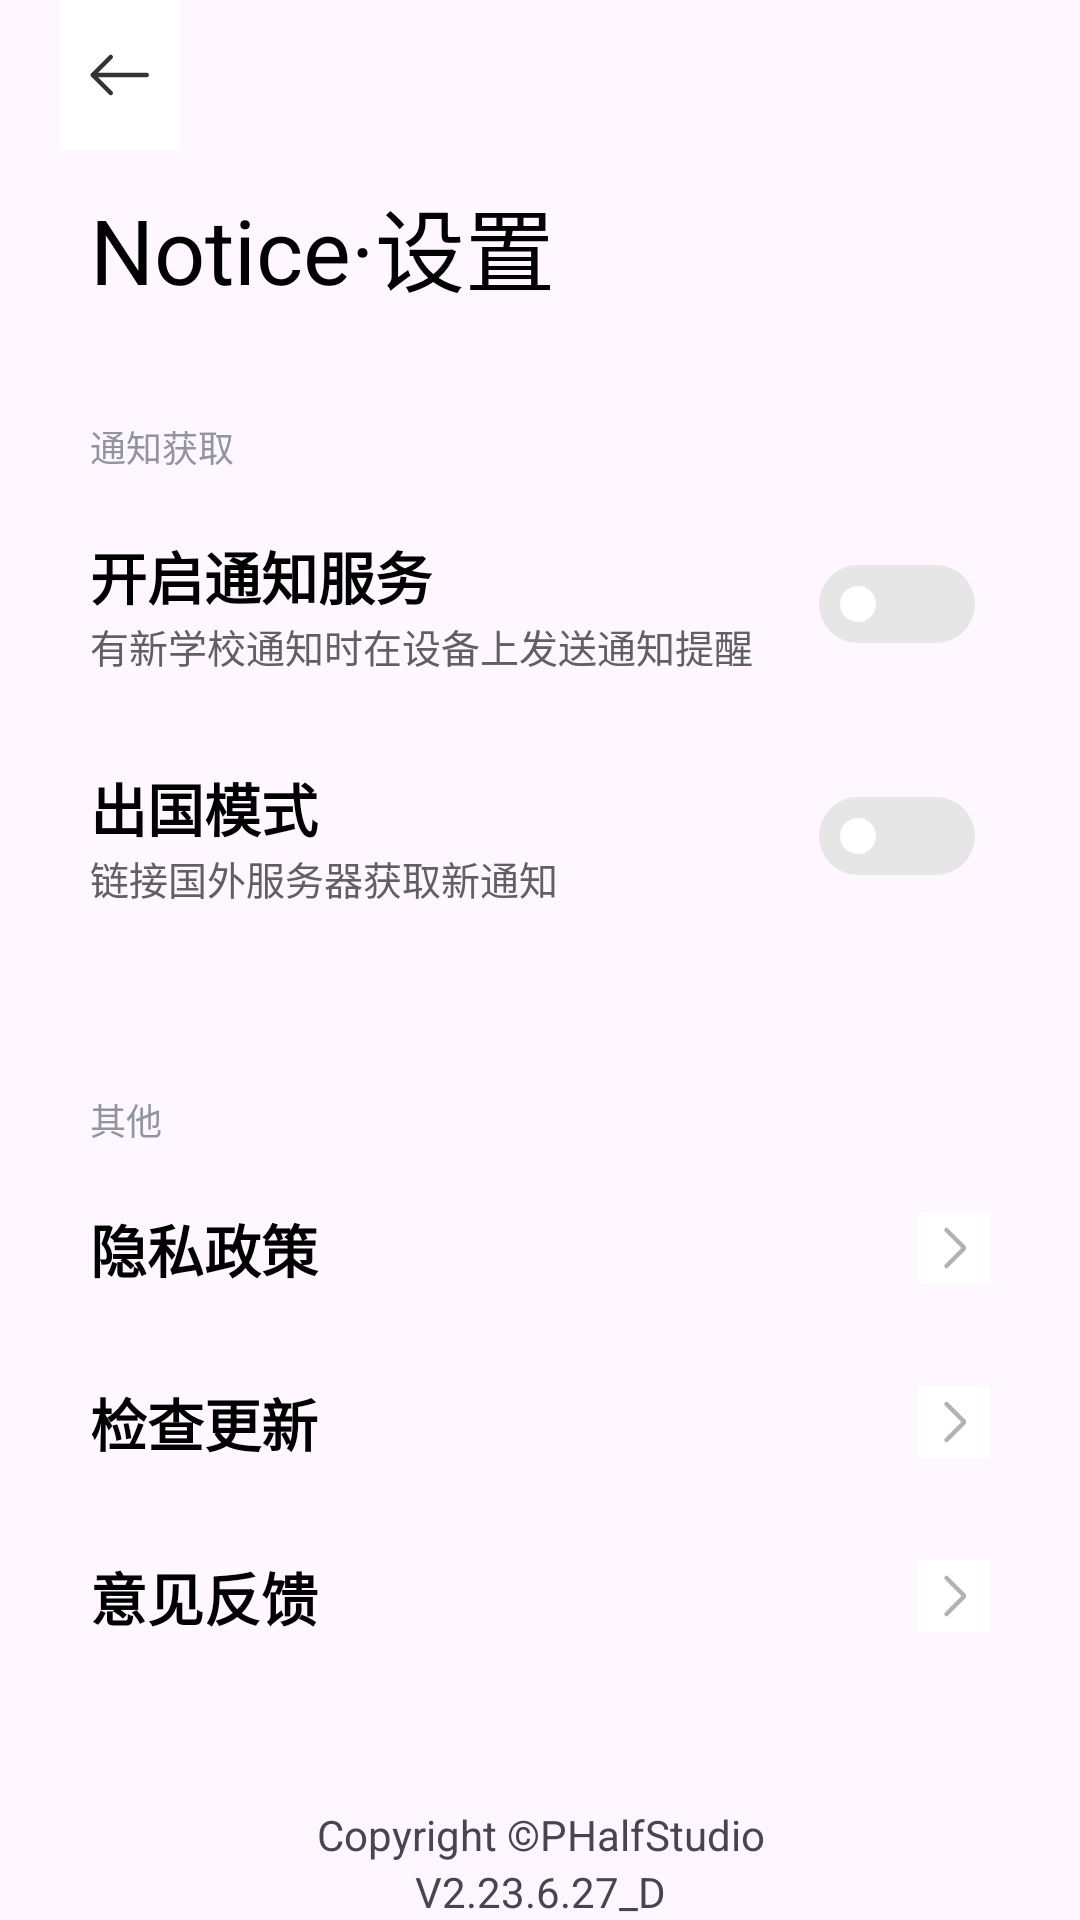

Icon click points for this 1080*1920 phone screenshot, format (x=x, y=y):
back: (x=119, y=75)
right: (x=955, y=1248), (x=955, y=1422), (x=955, y=1596)
